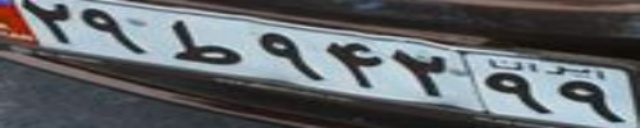2: (391, 50, 450, 99), (18, 1, 75, 44)
4: (323, 41, 382, 88)
9: (254, 31, 323, 81), (78, 8, 146, 55), (556, 79, 627, 124), (482, 72, 552, 114)
taa: (158, 18, 241, 65)
